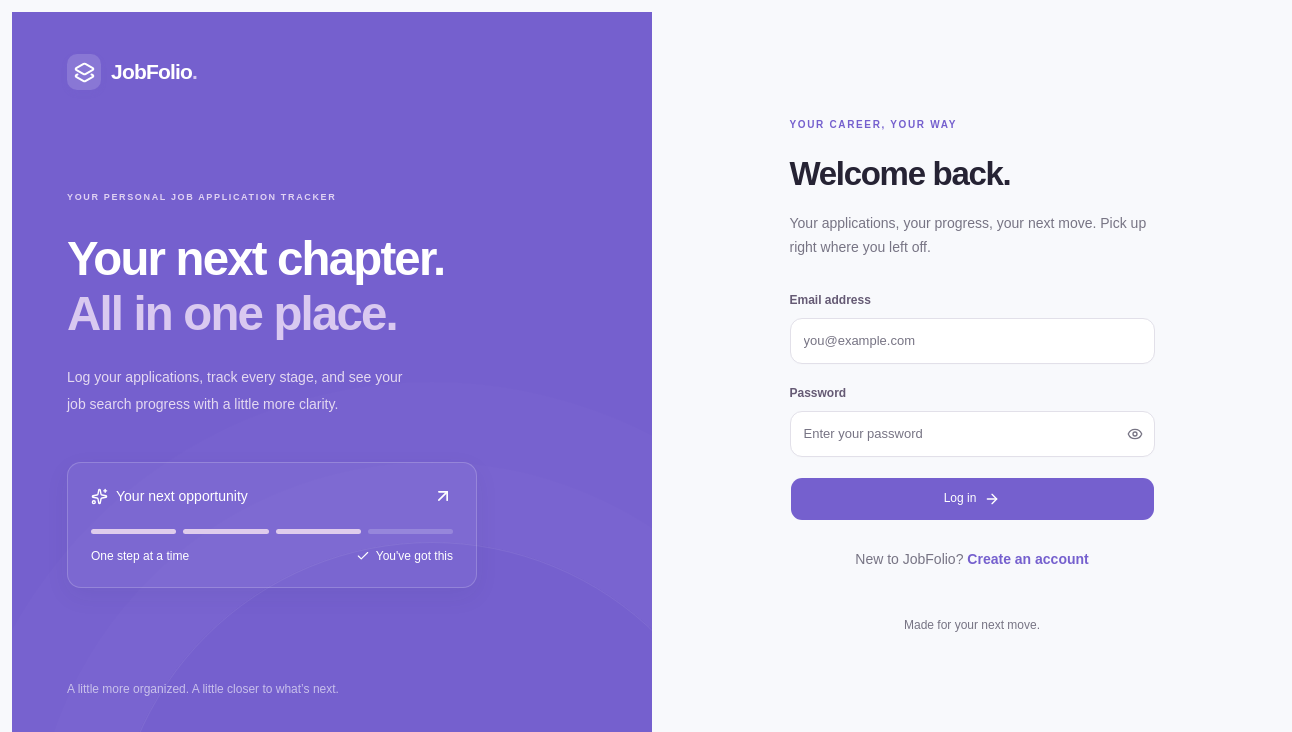
Test: LoginPage › shows the API error for HTTP 401 and allows another attempt
The width and height of the screenshot is (1292, 732).
Type "rizal@example.com" into the field labelled "Email address".
click(972, 341); type("rizal@example.com")  # box 790,318 -> 1154,364
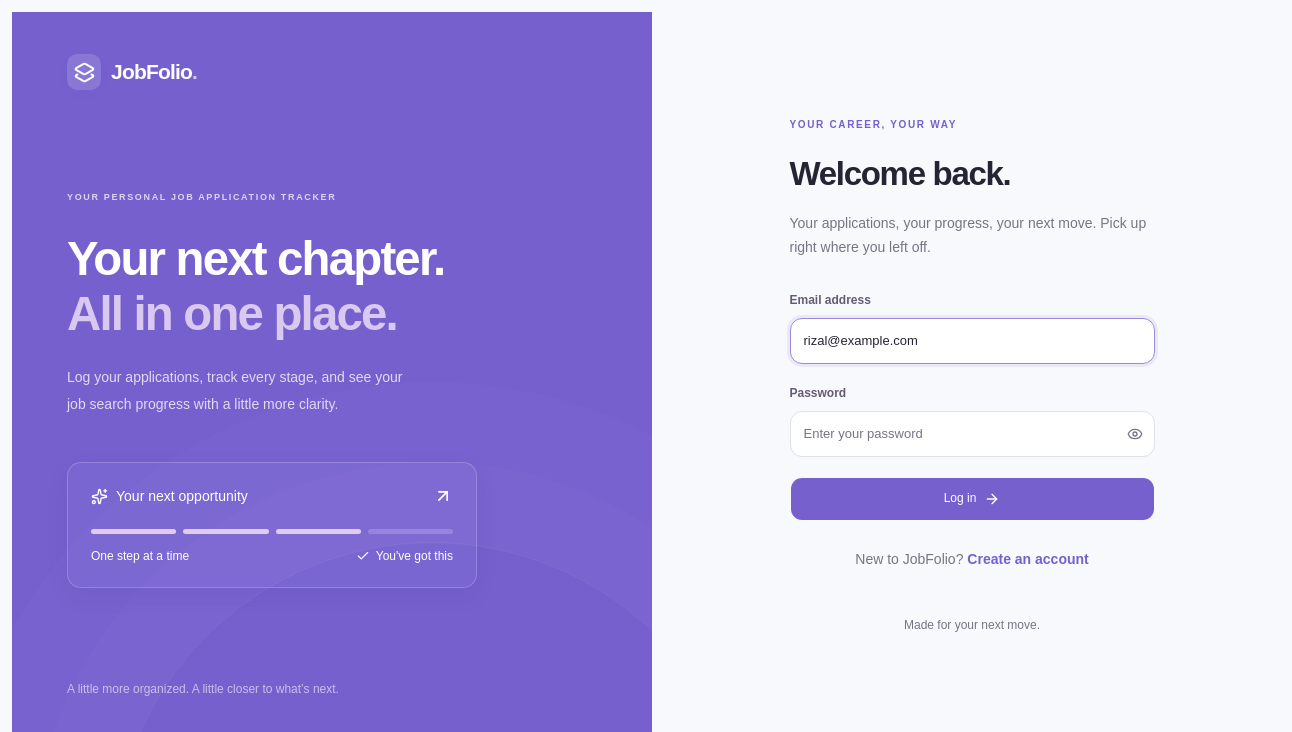
Type "password123" into the password field with placeholder "Enter your password".
click(972, 434); type("password123")  # box 790,411 -> 1154,457
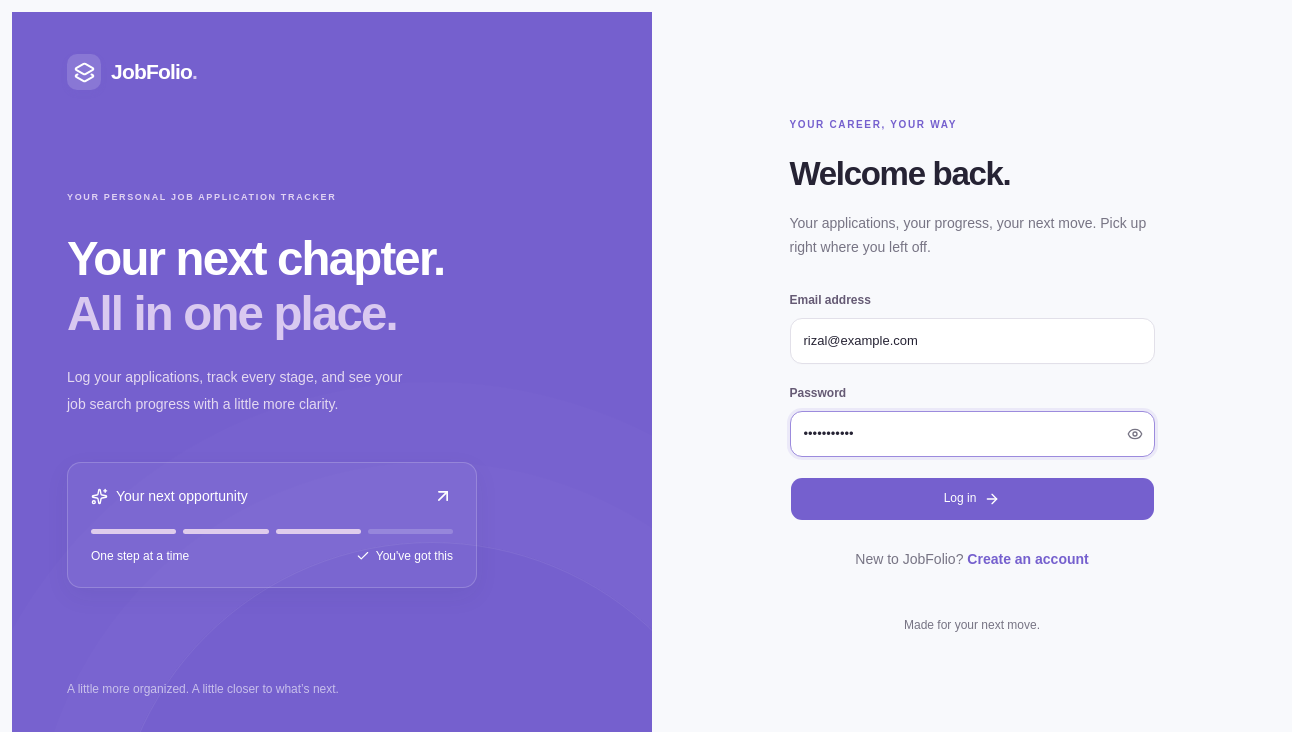
Click the button "Log in".
click(972, 499)  # box 790,477 -> 1154,521
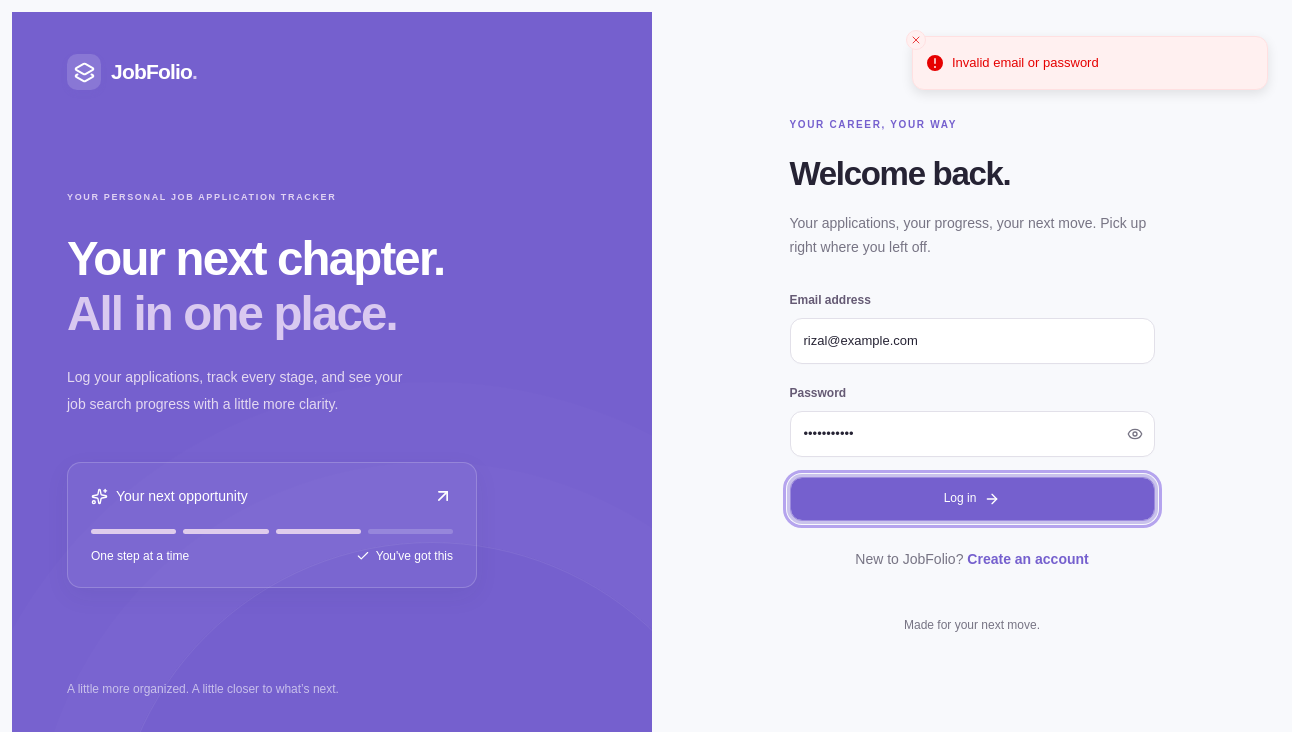
Expected: the heading "Dashboard" is not shown
Expected: the text "Invalid email or password" is shown, 952,53 -> 1099,72
Click the button "Log in".
click(972, 499)  # box 790,477 -> 1154,521
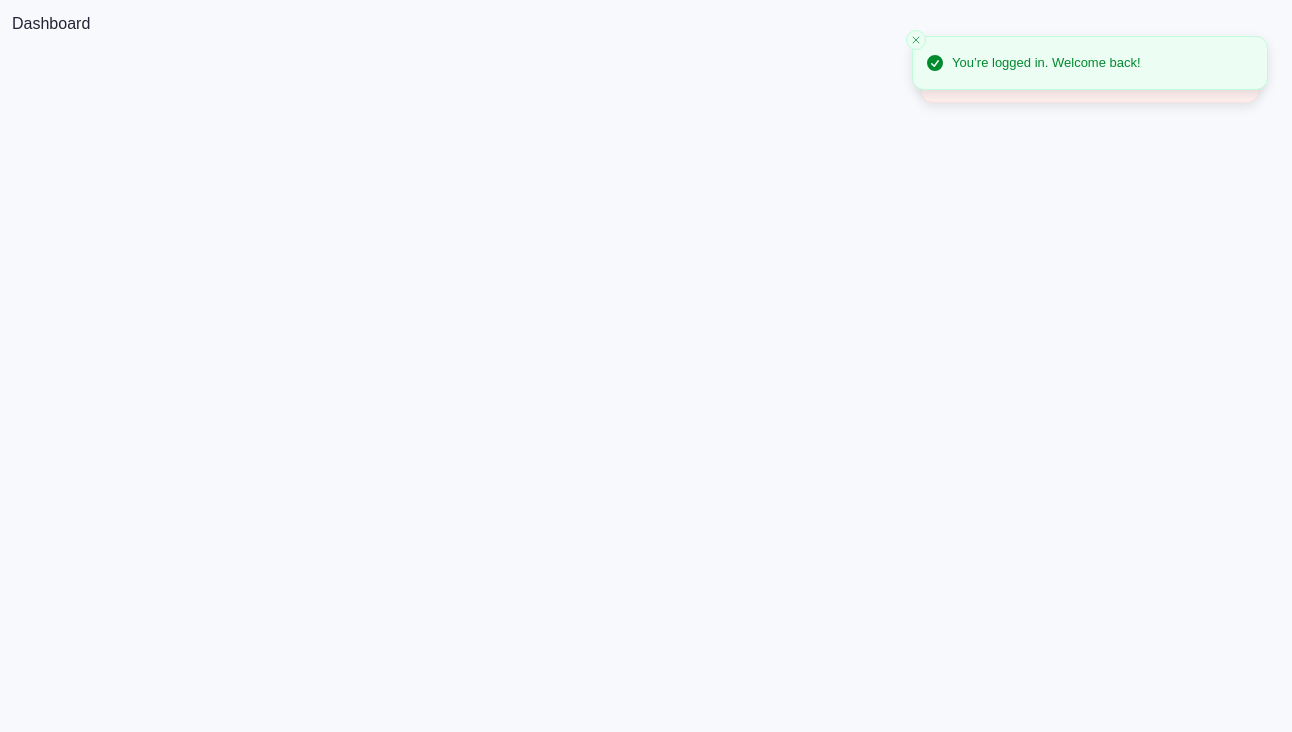
Expected: the heading "Dashboard" is shown, 12,15 -> 90,32
